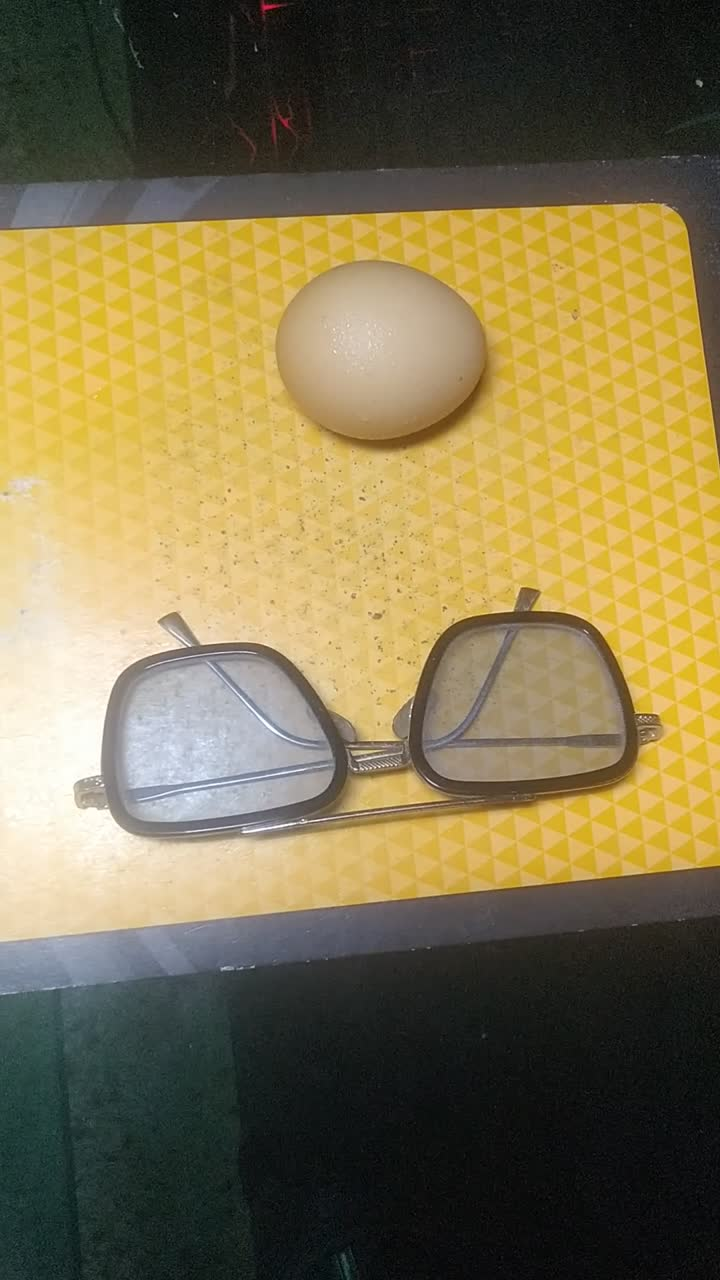egg: (263, 253, 503, 444)
sunglass: (71, 581, 666, 844)
